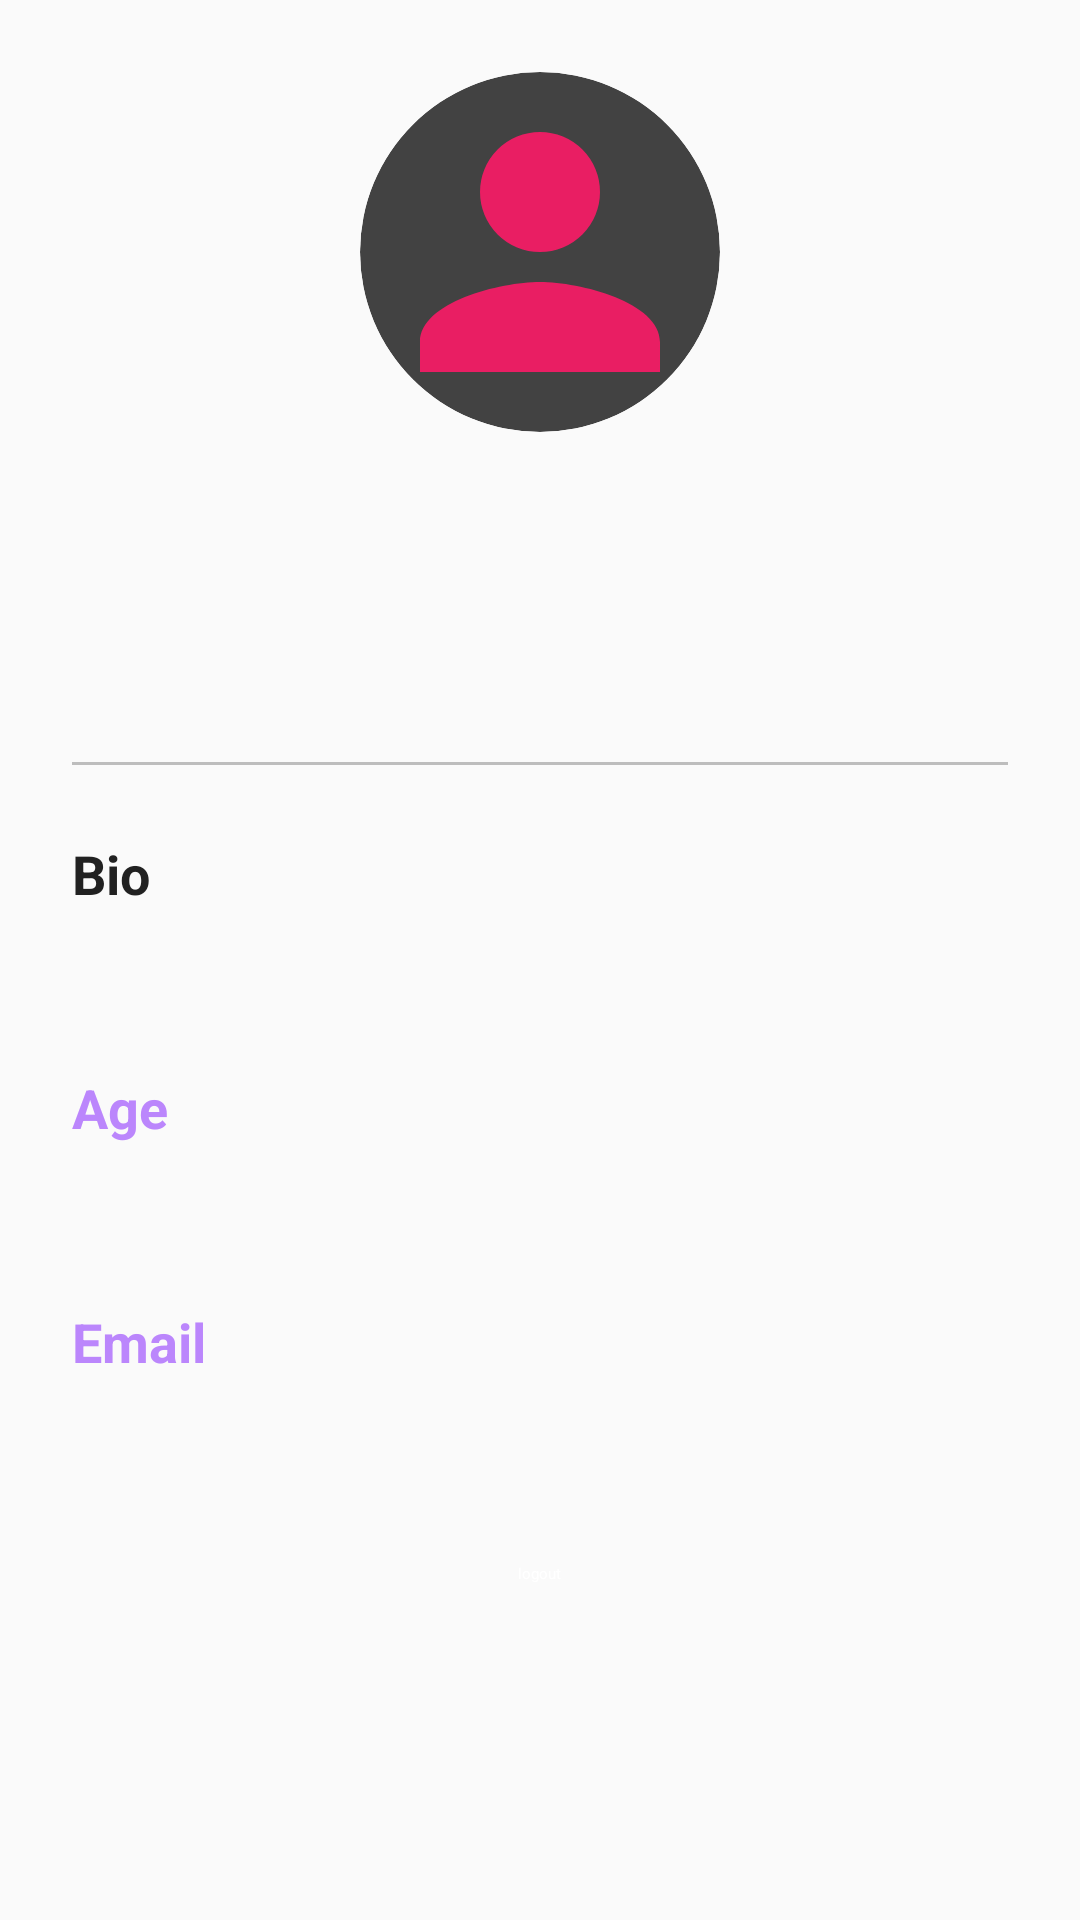

Icons on this 1080 × 1920 Android screen, each with its box as Rect(x1, y1, x2, y2):
profile: Rect(360, 72, 720, 432)
